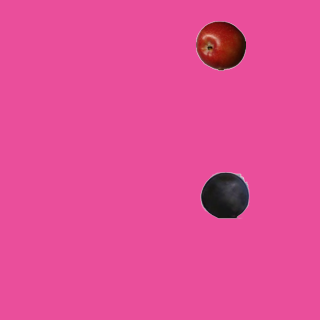Apple Braeburn: (195, 20, 245, 70)
Grape Blue: (199, 169, 249, 219)
